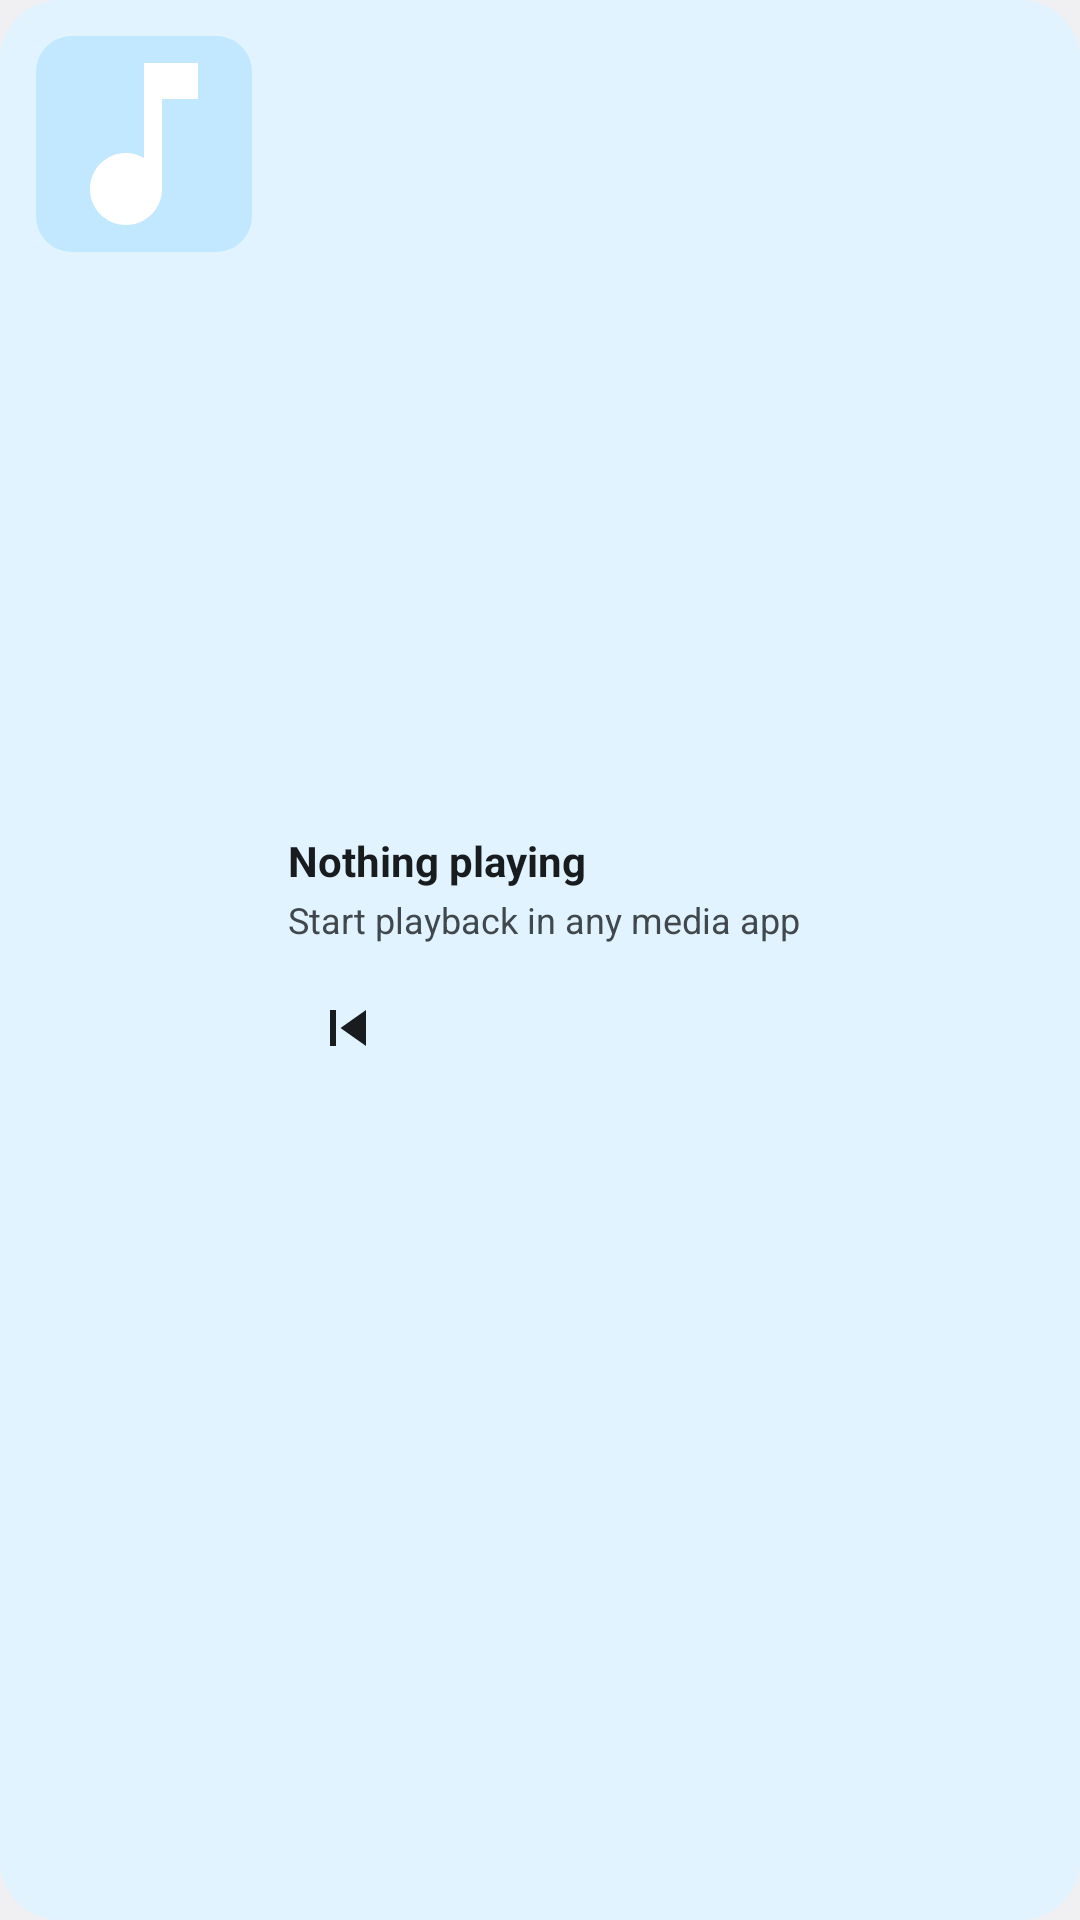

Icon click points for this 1080×1920 phone screenshot, format [x,y]:
Album cover: [144,144]
Previous track: [348,1028]
